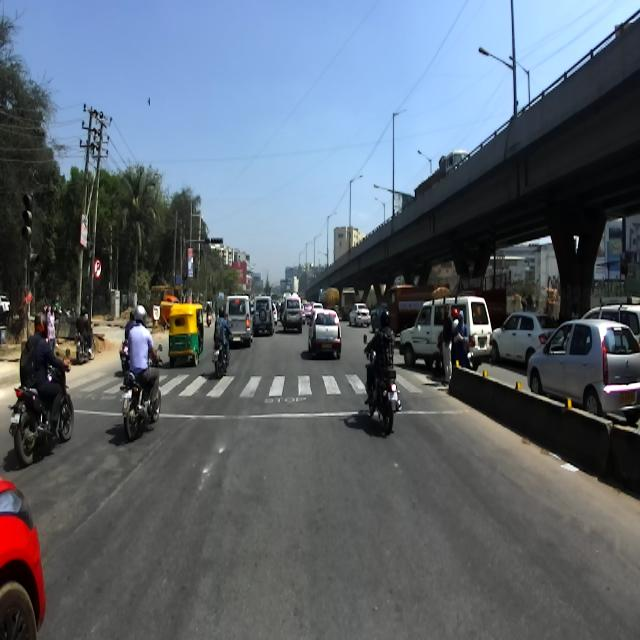motorcycle ahead at: (10, 378, 76, 464), (115, 359, 163, 439), (362, 360, 406, 438)
zebra crossing ahead at: (173, 368, 356, 404)
